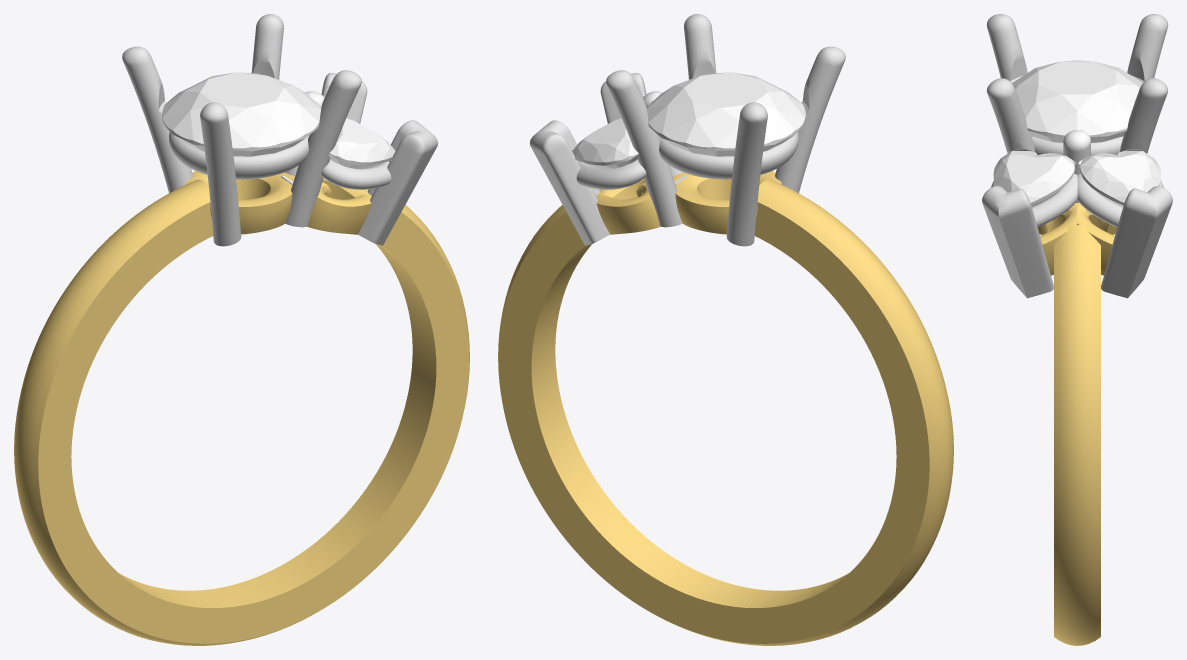
The model's file is jadeEng_webgi.glb.
3 views of the same model, side by side, from view 1: azimuth 30°, elevation 25°; view 2: azimuth 150°, elevation 25°; view 3: azimuth 270°, elevation 25° (orthographic).
Visible parts, largest first — view 1: Jade_B_ENG006, Jade_B_ENG010, Jade_B_ENG015, Jade_B_ENG014; view 2: Jade_B_ENG006, Jade_B_ENG010, Jade_B_ENG015, Jade_B_ENG013; view 3: Jade_B_ENG006, Jade_B_ENG010, Jade_B_ENG015, Jade_B_ENG013, Jade_B_ENG014, Jade_B_ENG009.
Boxes of the visible parts, box(x1,y1,x2,y2) form: Jade_B_ENG006: box(14, 171, 469, 645); Jade_B_ENG010: box(122, 14, 438, 246); Jade_B_ENG015: box(162, 72, 320, 179); Jade_B_ENG014: box(328, 118, 395, 168); Jade_B_ENG006: box(498, 171, 953, 645); Jade_B_ENG010: box(529, 14, 845, 246); Jade_B_ENG015: box(647, 72, 805, 179); Jade_B_ENG013: box(572, 118, 639, 168); Jade_B_ENG006: box(1038, 203, 1116, 645); Jade_B_ENG010: box(982, 14, 1172, 298); Jade_B_ENG015: box(1012, 60, 1142, 142); Jade_B_ENG013: box(1079, 150, 1161, 206); Jade_B_ENG014: box(993, 150, 1075, 206); Jade_B_ENG009: box(1063, 130, 1090, 202).
Bounding box in the file's own units: 2.45 × 3.03 × 0.9119.
